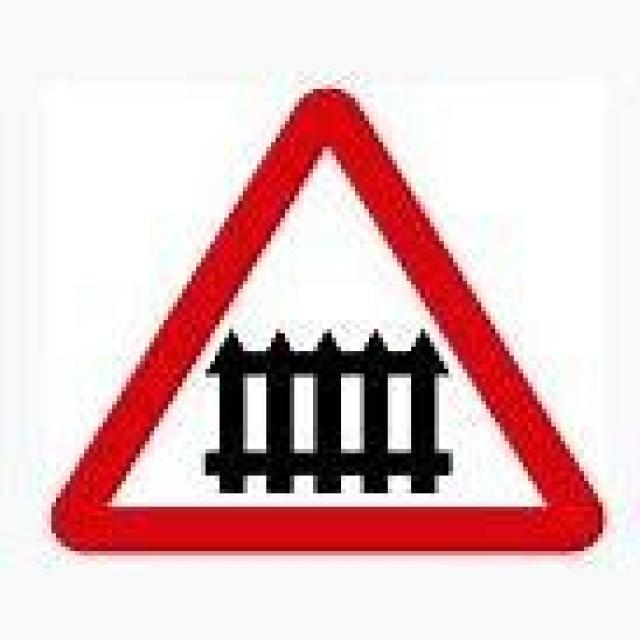guarded level crossing: (51, 83, 605, 562)
